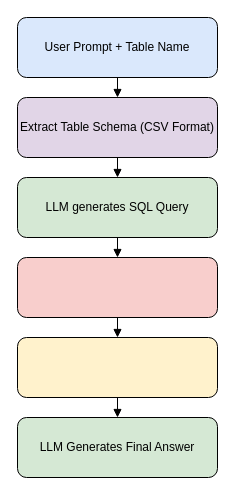
The diagram is 235 pixels wide and 495 high, and some of its shapes have lost their labels. Here are the shapes that lost their labels. From the top down, the centre of each, then its label:
[117,287]: Execute SQL on SQLite
[117,367]: Format Results as JSON
